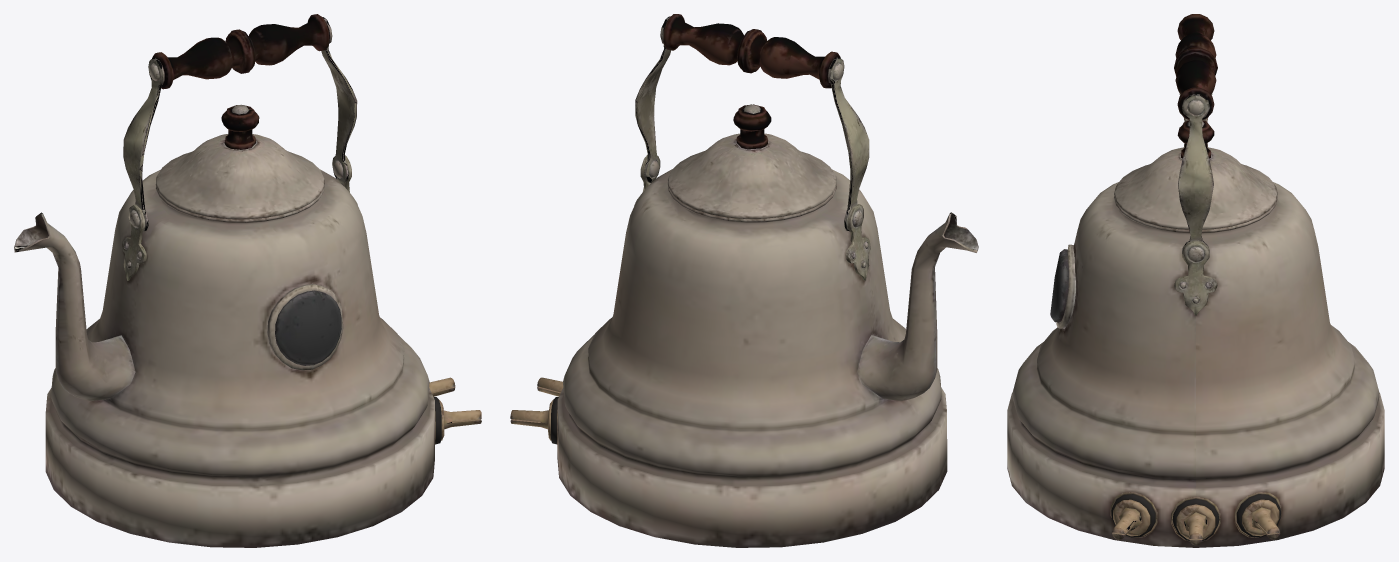
The model's file is vintage_electric_kettle.glb.
3 renders of one model, left to right at view 1: azimuth 30°, elevation 25°; view 2: azimuth 150°, elevation 25°; view 3: azimuth 270°, elevation 25°, orthographic. The views are drawn at different scales.
Visible parts, largest first — view 1: vintage_electric_kettle; view 2: vintage_electric_kettle; view 3: vintage_electric_kettle.
Boxes of the visible parts, x1,y1,x2,y2 form: vintage_electric_kettle: [14, 14, 481, 547]; vintage_electric_kettle: [510, 14, 978, 547]; vintage_electric_kettle: [1007, 14, 1384, 547].
Bounding box in the file's own units: 0.3208 × 0.3044 × 0.2478.
Materials: 2 (2 with a texture image).
